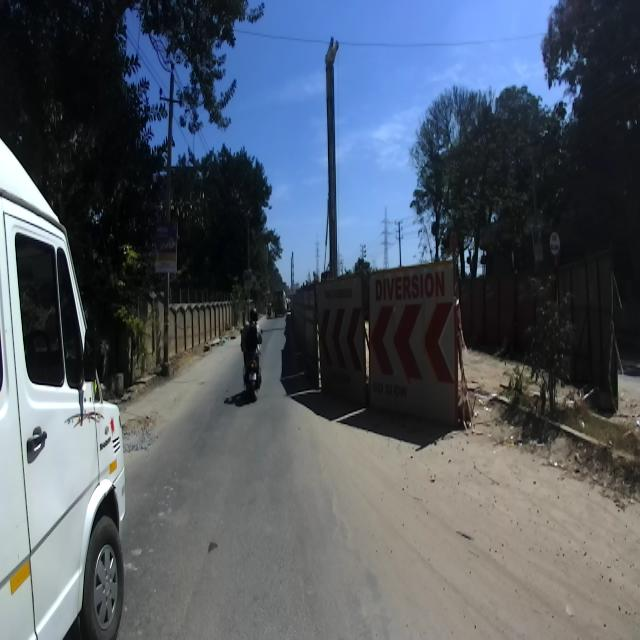barrier ahead at: (371, 260, 464, 425)
bus ahead at: (0, 153, 129, 640)
motorcycle ahead at: (238, 343, 264, 409)
